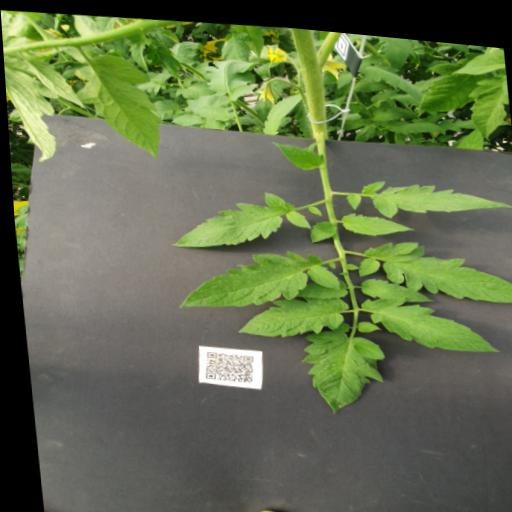Healthy: (167, 233, 338, 316), (350, 224, 512, 299), (162, 177, 310, 253), (68, 46, 162, 156), (354, 281, 495, 347), (292, 318, 382, 412), (357, 165, 510, 219), (228, 281, 346, 338), (3, 57, 55, 163), (410, 48, 495, 107), (463, 59, 511, 133), (356, 44, 423, 94), (201, 50, 255, 98), (336, 201, 412, 231), (256, 82, 302, 130), (356, 267, 428, 296), (446, 34, 506, 68), (268, 133, 323, 166), (230, 17, 265, 53), (215, 23, 252, 57), (380, 108, 442, 128), (147, 42, 183, 75), (122, 31, 151, 71), (367, 77, 400, 101), (305, 212, 335, 237), (187, 98, 226, 116), (368, 98, 404, 115), (167, 107, 201, 122), (351, 115, 375, 135), (333, 62, 353, 82)
